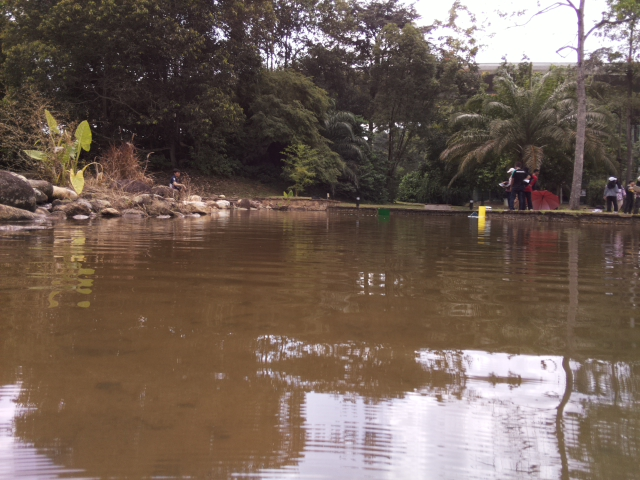obstacle: (378, 207, 391, 216)
